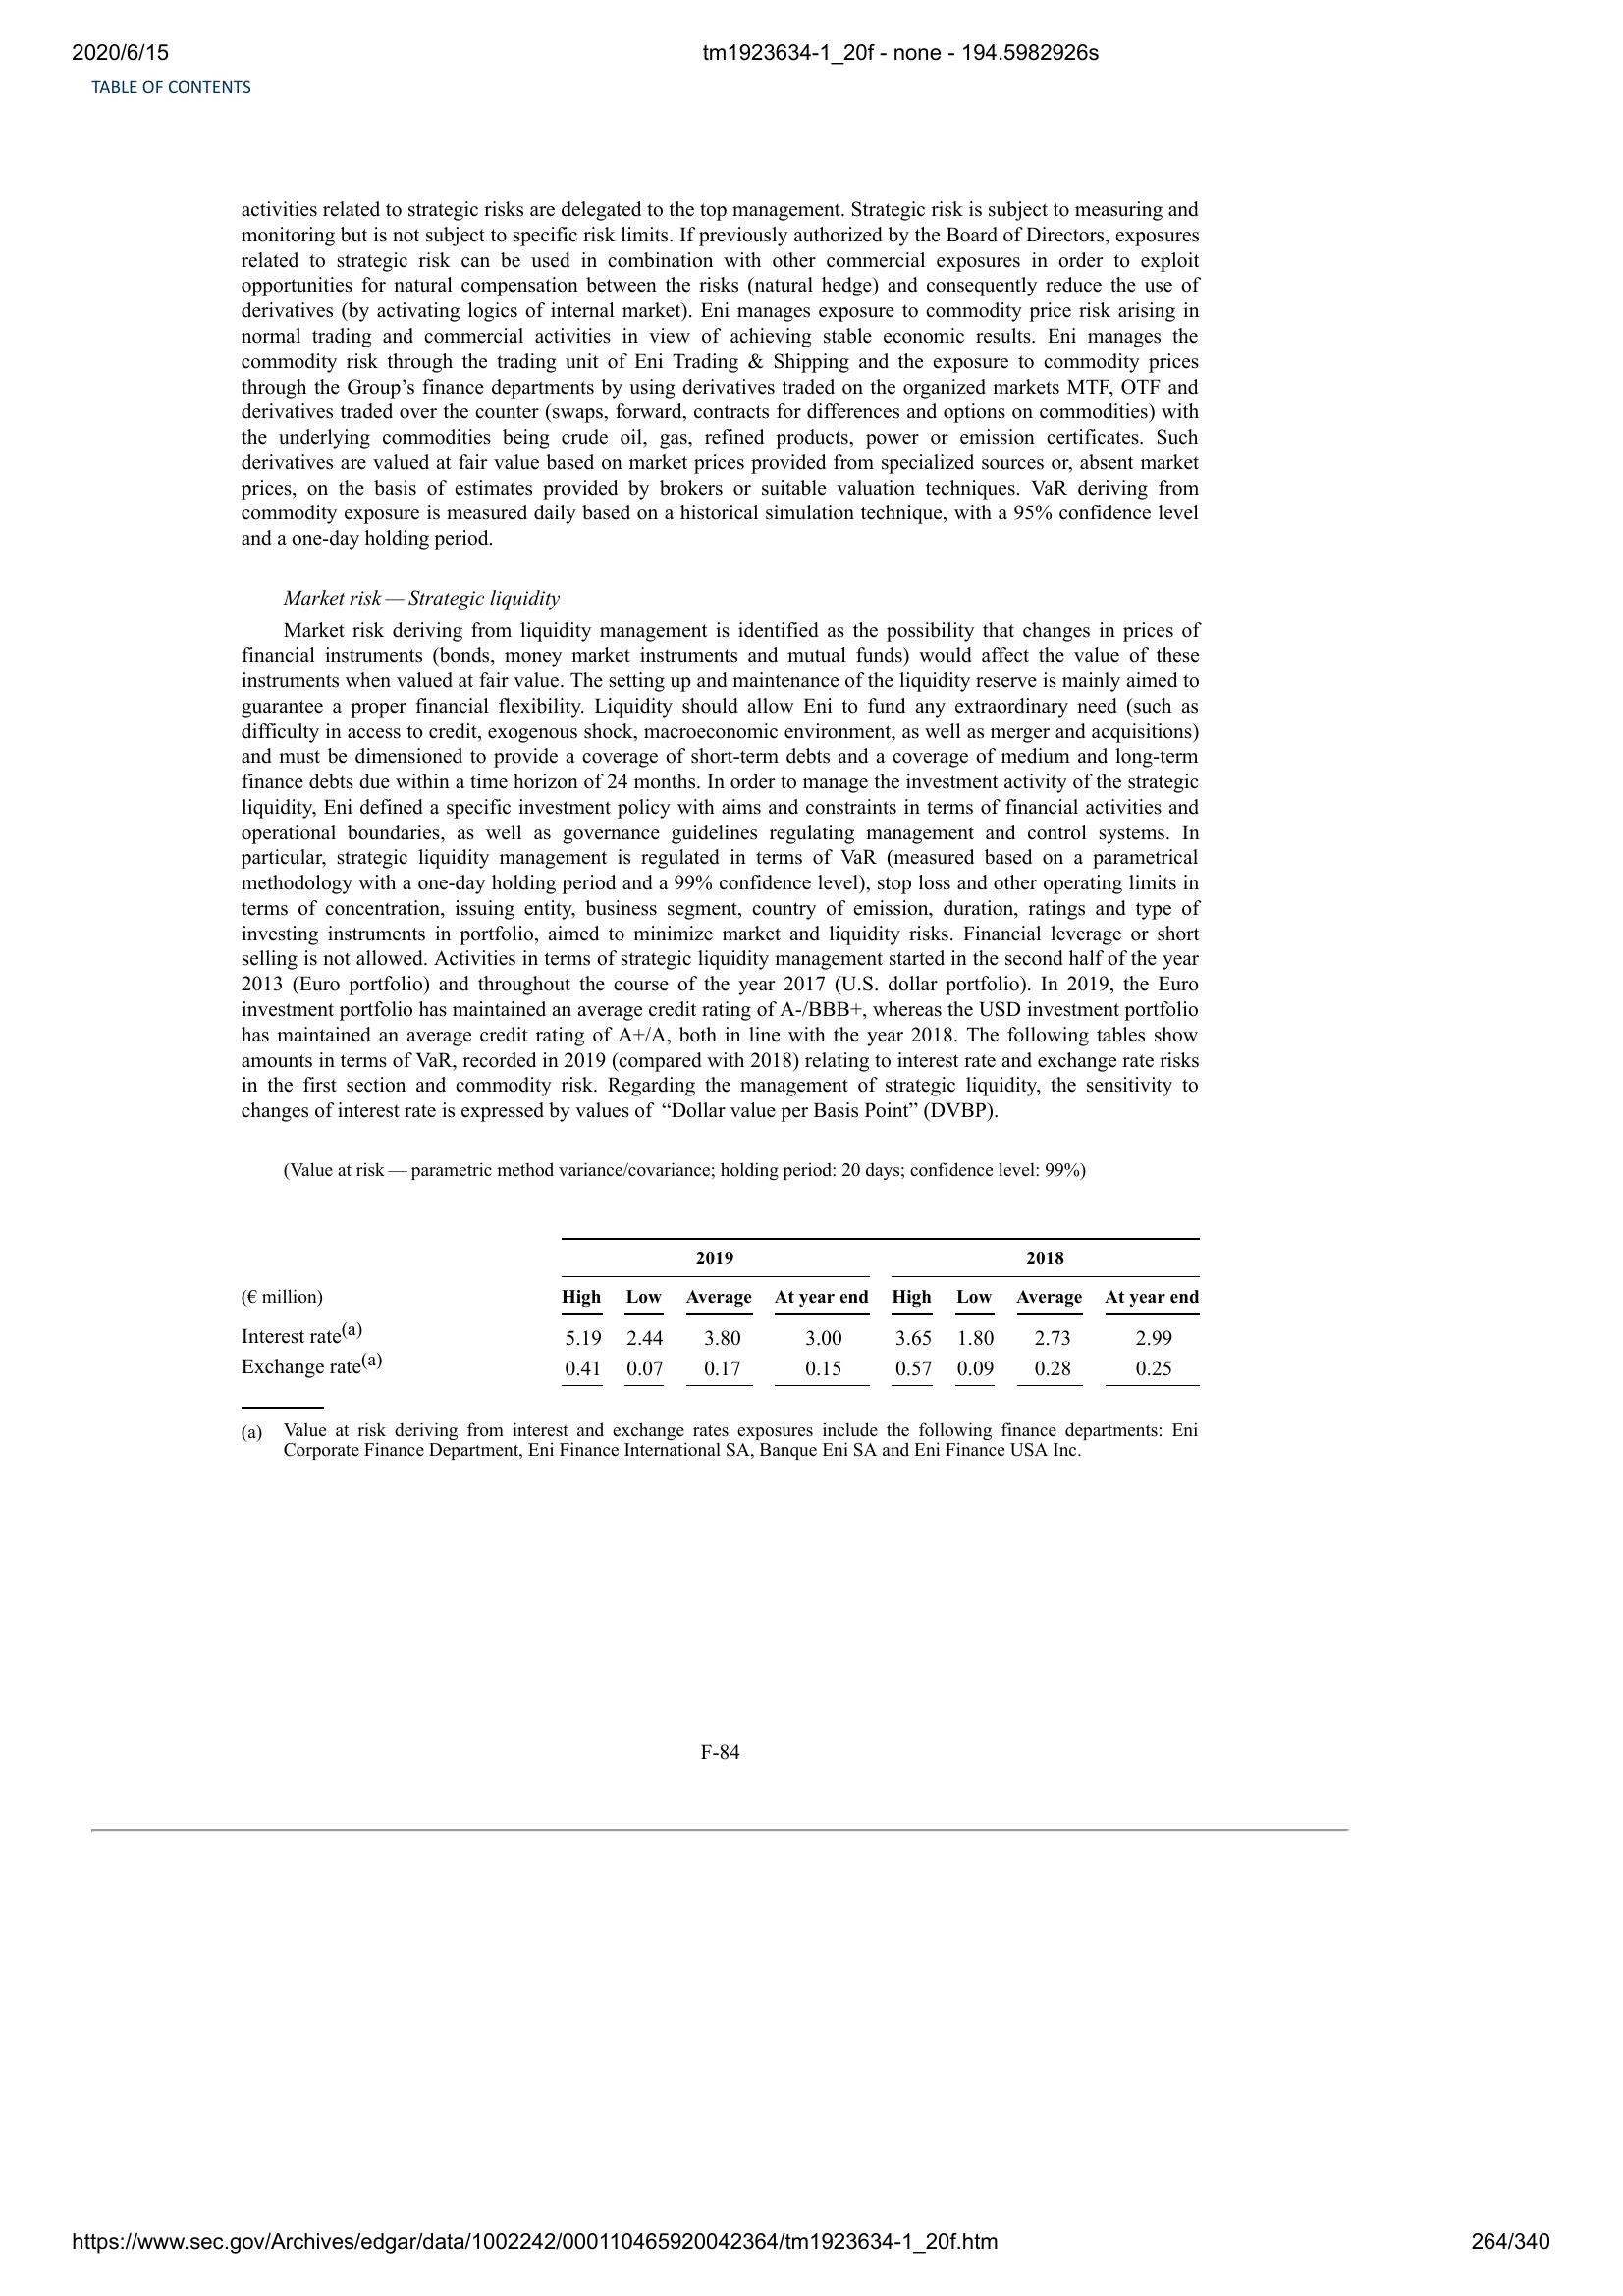table: (237, 1229, 1210, 1397)
